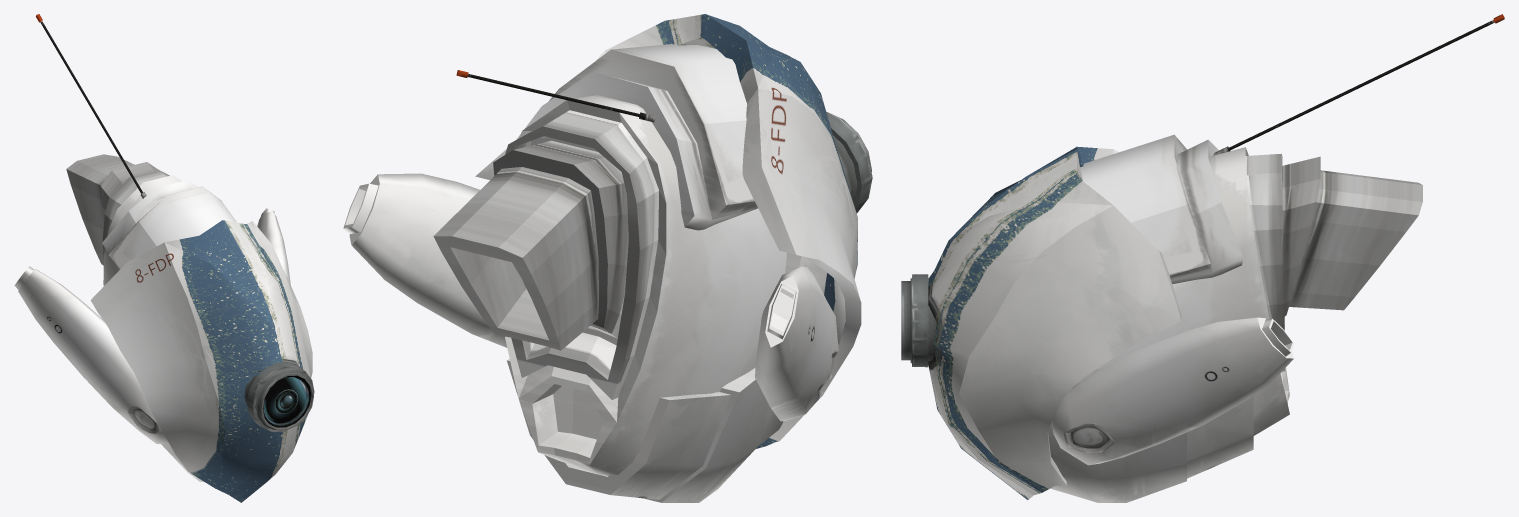
Rendered from Drone_Follow_Slow.fbx.
3 renders of one model, left to right at view 1: azimuth 30°, elevation 25°; view 2: azimuth 150°, elevation 25°; view 3: azimuth 270°, elevation 25°, orthographic. The views are drawn at different scales.
Parts seen in each view (by area): view 1: polySurface8; view 2: polySurface8; view 3: polySurface8.
Part boxes in pixels (x1,y1,x2,y2): polySurface8: (14,14,314,502); polySurface8: (343,14,872,502); polySurface8: (901,14,1504,502).
Size of the model in its own units: 41.43 by 56.31 by 65.3.
